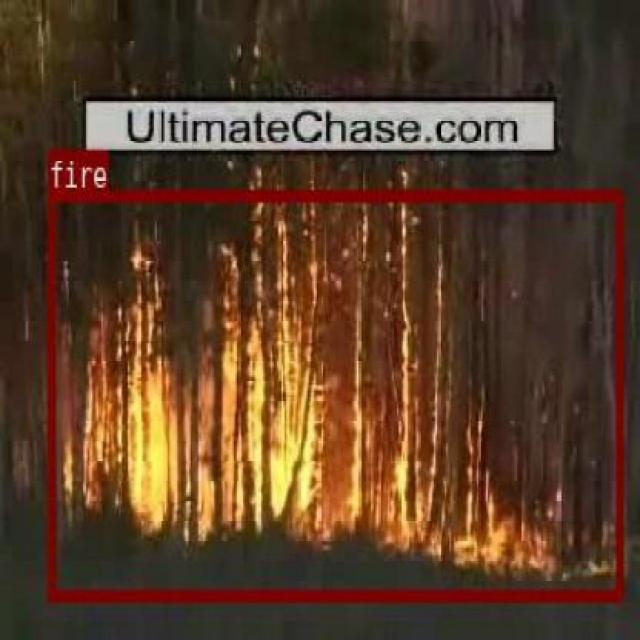Fire: (48, 188, 622, 600)
